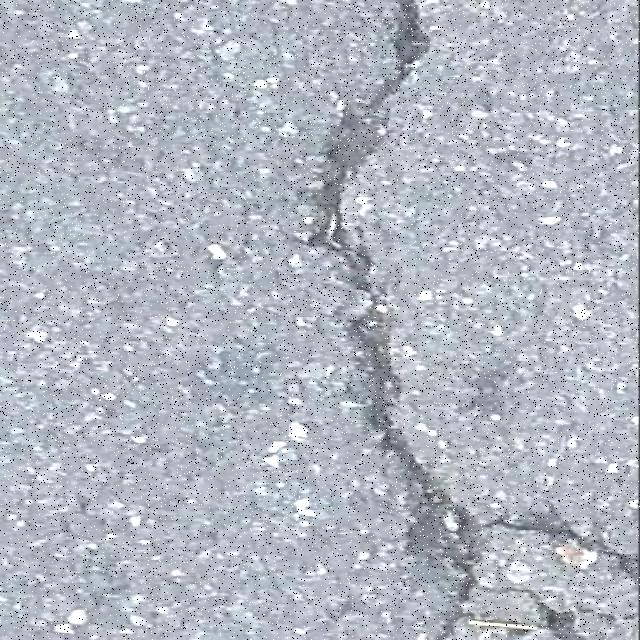Crack: (355, 301, 640, 640), (316, 106, 379, 290), (381, 0, 431, 100)
